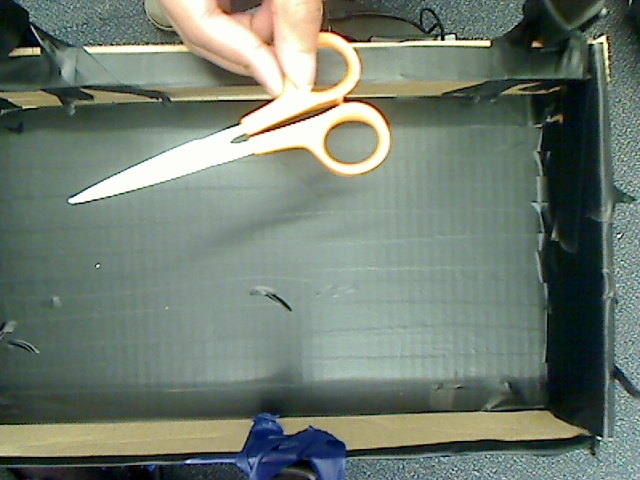scissors: (59, 12, 387, 214)
